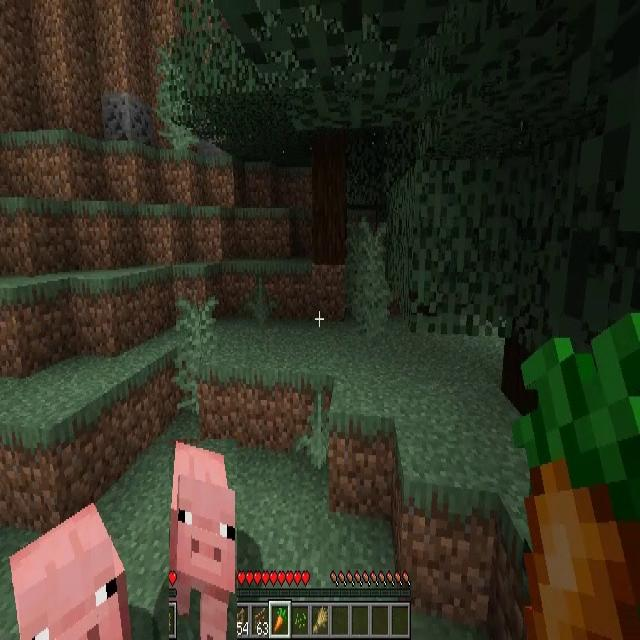pig: (10, 502, 131, 640), (169, 439, 237, 640)
